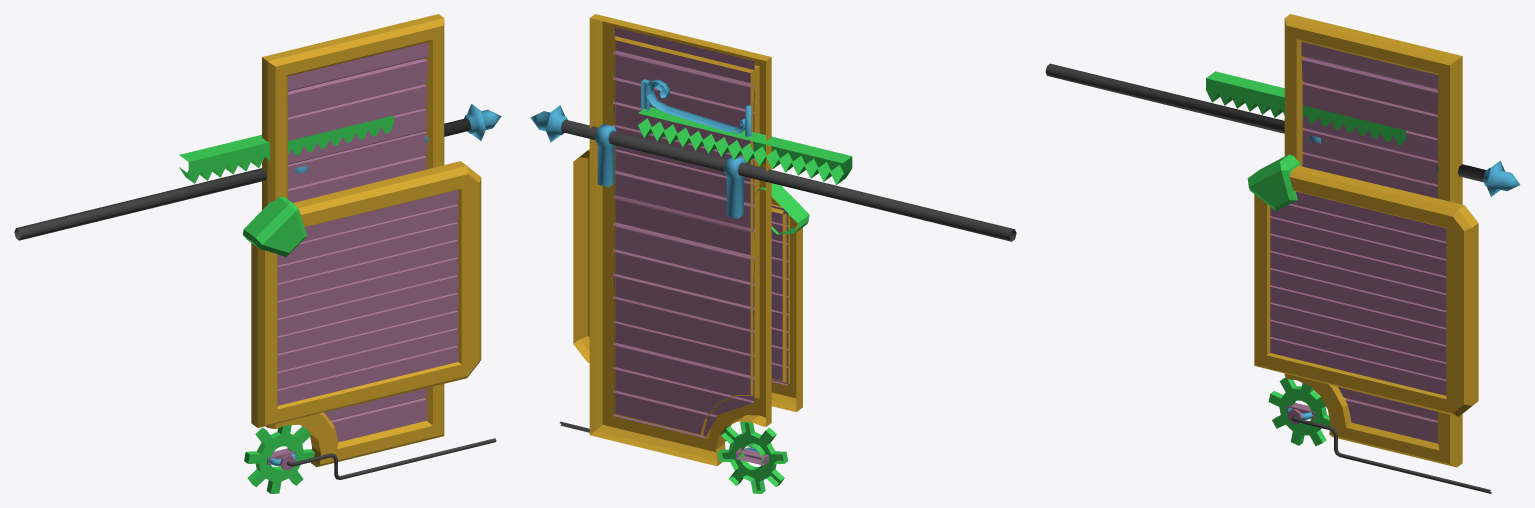
File: tutorialsigns.fbx
3 views of the same model, side by side, from view 1: azimuth 30°, elevation 25°; view 2: azimuth 150°, elevation 25°; view 3: azimuth 330°, elevation 25° (orthographic). The views are drawn at different scales.
Visible parts, largest first — view 1: Plane, Plane.001; view 2: Plane.001, Plane; view 3: Plane, Plane.001.
Boxes of the visible parts, x1,y1,x2,y2 form: Plane: [14, 104, 501, 427]; Plane.001: [244, 14, 496, 493]; Plane.001: [560, 14, 787, 493]; Plane: [530, 79, 1016, 411]; Plane: [1045, 63, 1520, 416]; Plane.001: [1268, 14, 1491, 493].
Size of the model in its own units: 365 by 3440 by 2966.
